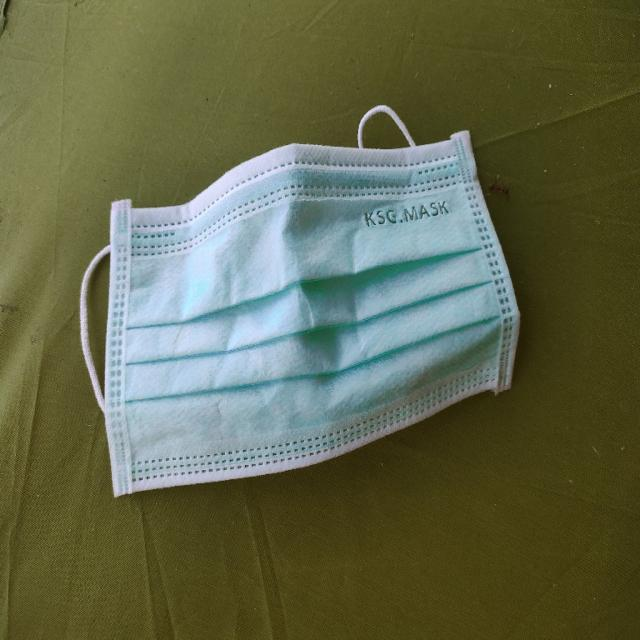non-organic waste: (89, 109, 521, 488)
